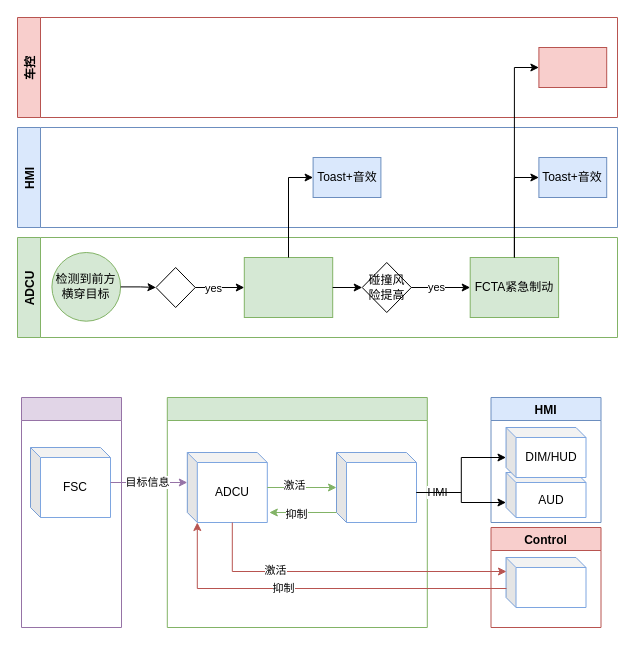
The diagram is 635 pixels wide and 645 high, and some of its shapes have lost their labels. Here are the shapes that lost their labels. From the top down, the box of each, then its label:
(538, 46, 607, 88): Full Brake
(155, 266, 195, 308): 有碰撞风险
(243, 256, 333, 318): FCTA预警
(336, 452, 416, 522): DHU
(20, 396, 122, 628): Sensor
(166, 396, 427, 628): Processor
(505, 556, 586, 608): RBCM
